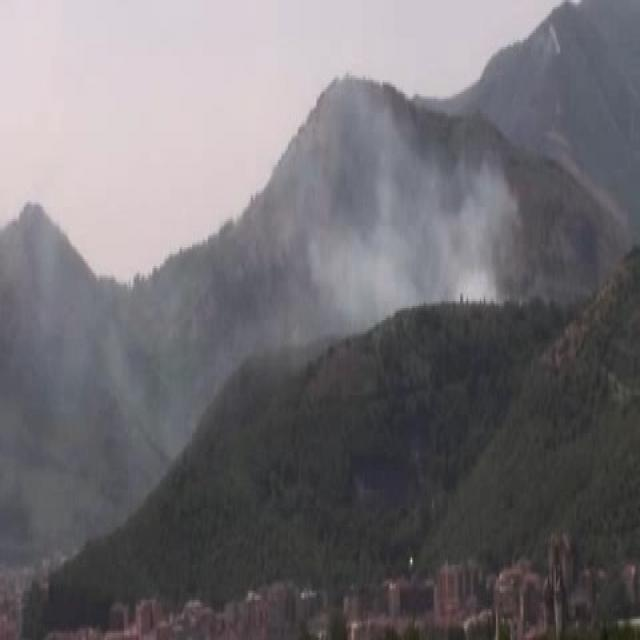smoke: (314, 101, 520, 306)
